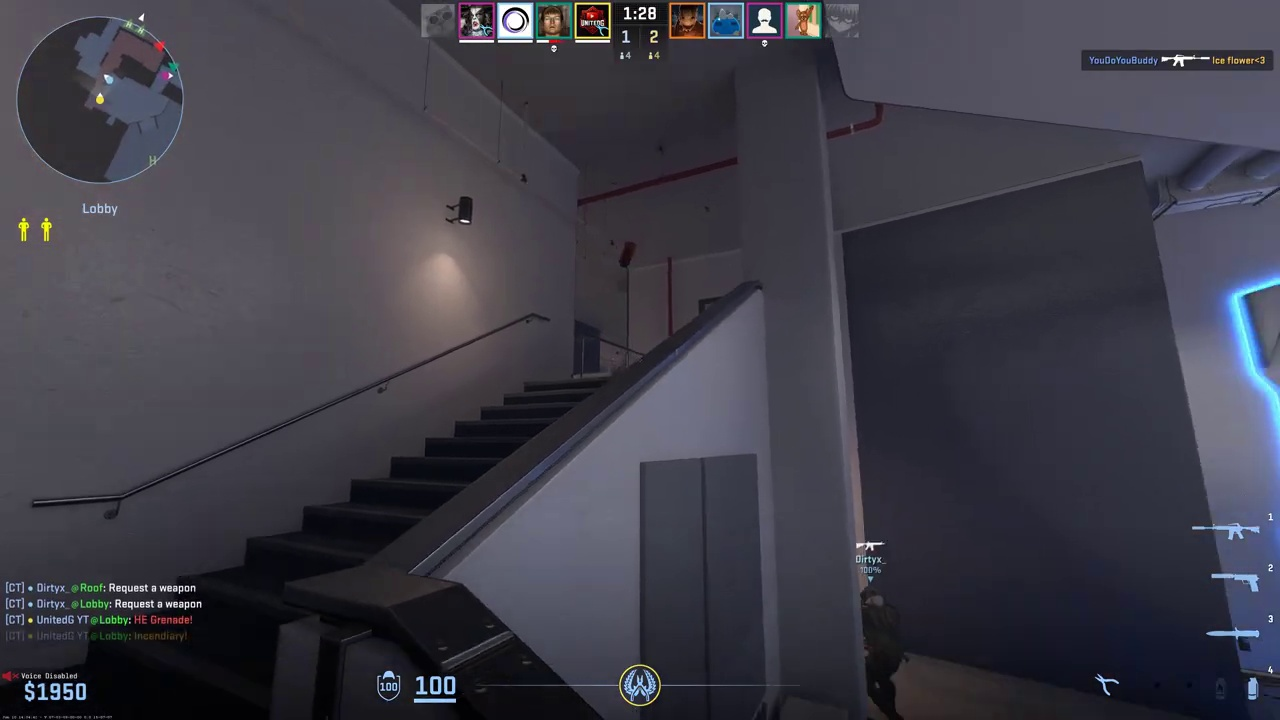CT: (860, 589, 904, 716)
